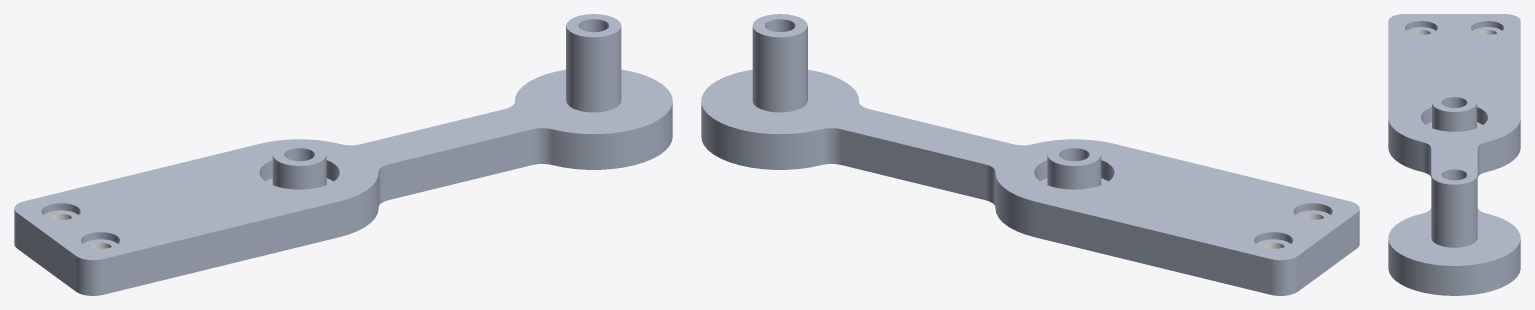
The picture shows the model from 3 angles, left to right: view 1: azimuth 30°, elevation 25°; view 2: azimuth 150°, elevation 25°; view 3: azimuth 270°, elevation 25°; orthographic projection. The views are drawn at different scales.
Visible parts, largest first — view 1: Base; view 2: Base; view 3: Base.
Part boxes in pixels (left/top/right/bottom): Base: left=14, top=14, right=672, bottom=295; Base: left=701, top=14, right=1359, bottom=295; Base: left=1388, top=14, right=1520, bottom=295.
Size of the model in its own units: 0.1143 by 0.0197 by 0.0254.
